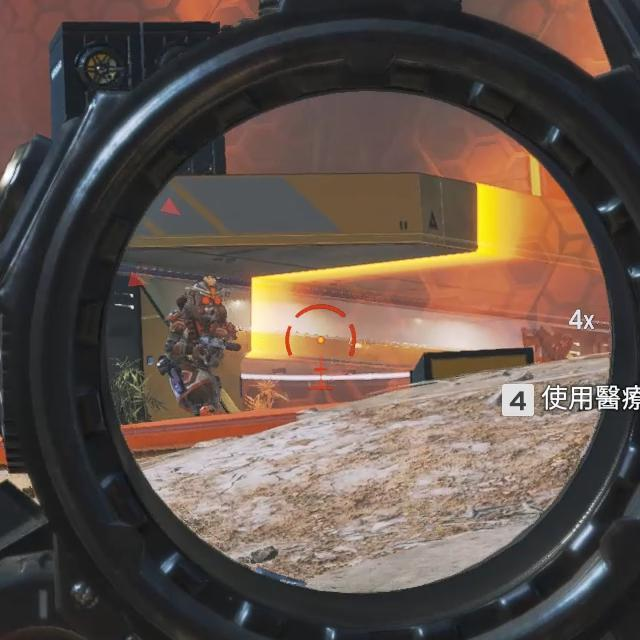avatar: (154, 272, 239, 419)
